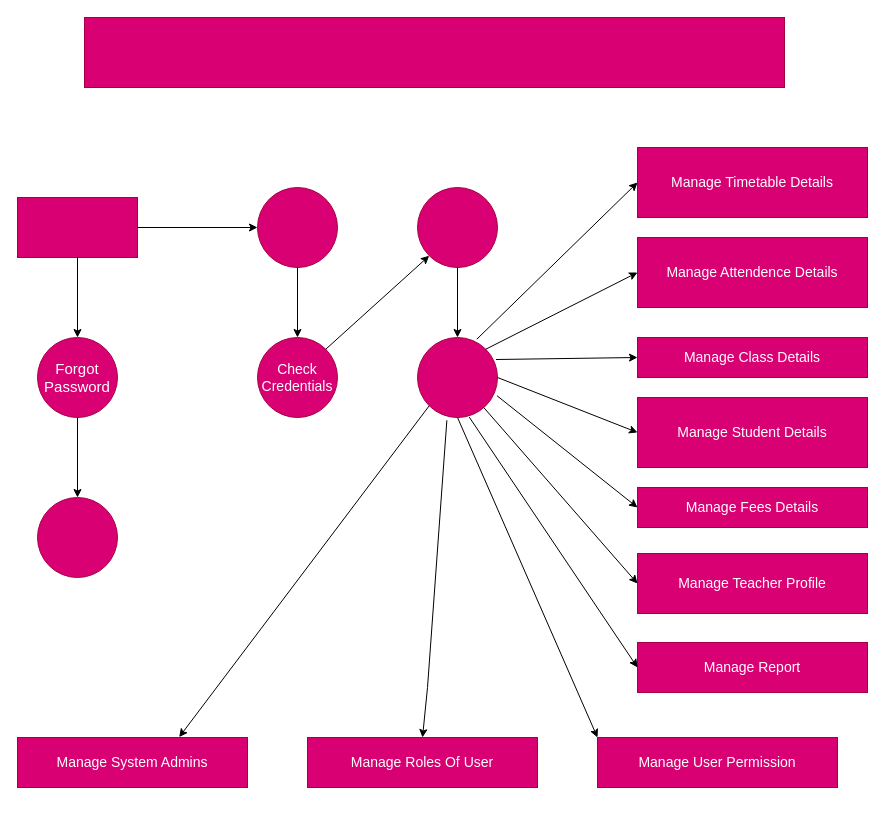
This 885x813 diagram has some shape labels left out. The shapes that lost their labels are listed below. From the top down, each one's centre as x and y in pixels, then its label:
At [434,52]: "Student Information System".
At [77,227]: "Admin".
At [297,227]: "Login to system".
At [457,227]: "Check Roals Of Access".
At [457,377]: "Manage Modules".
At [77,537]: "Send Email To User".
